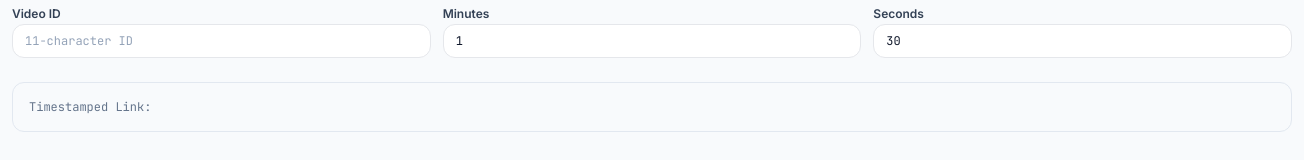
Test case: Web & Internet Utilities Suite (65 Tools) › 6. Internet Content Utilities › generates timestamped URLs with minutes and seconds
Type "dQw4w9WgXcQ" into the field with placeholder "11-character ID" at (221, 41), box [12, 24, 431, 58]
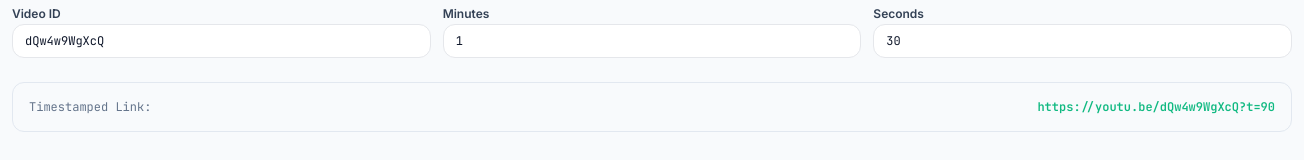
Now the link "https://youtu.be/dQw4w9WgXcQ?t=90" is shown, box [1037, 99, 1275, 115]
